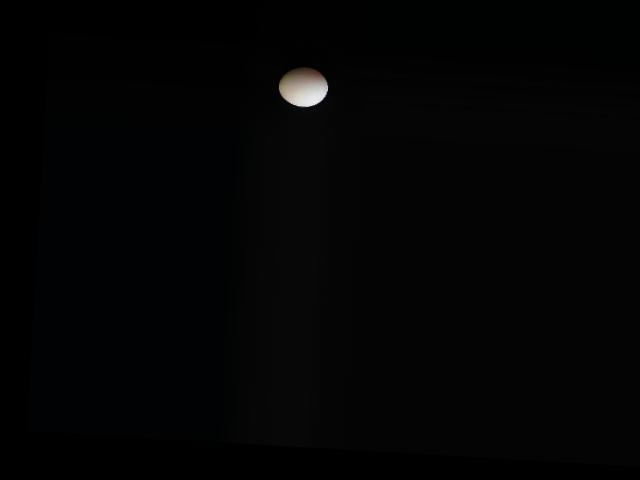egg: (276, 65, 327, 107)
